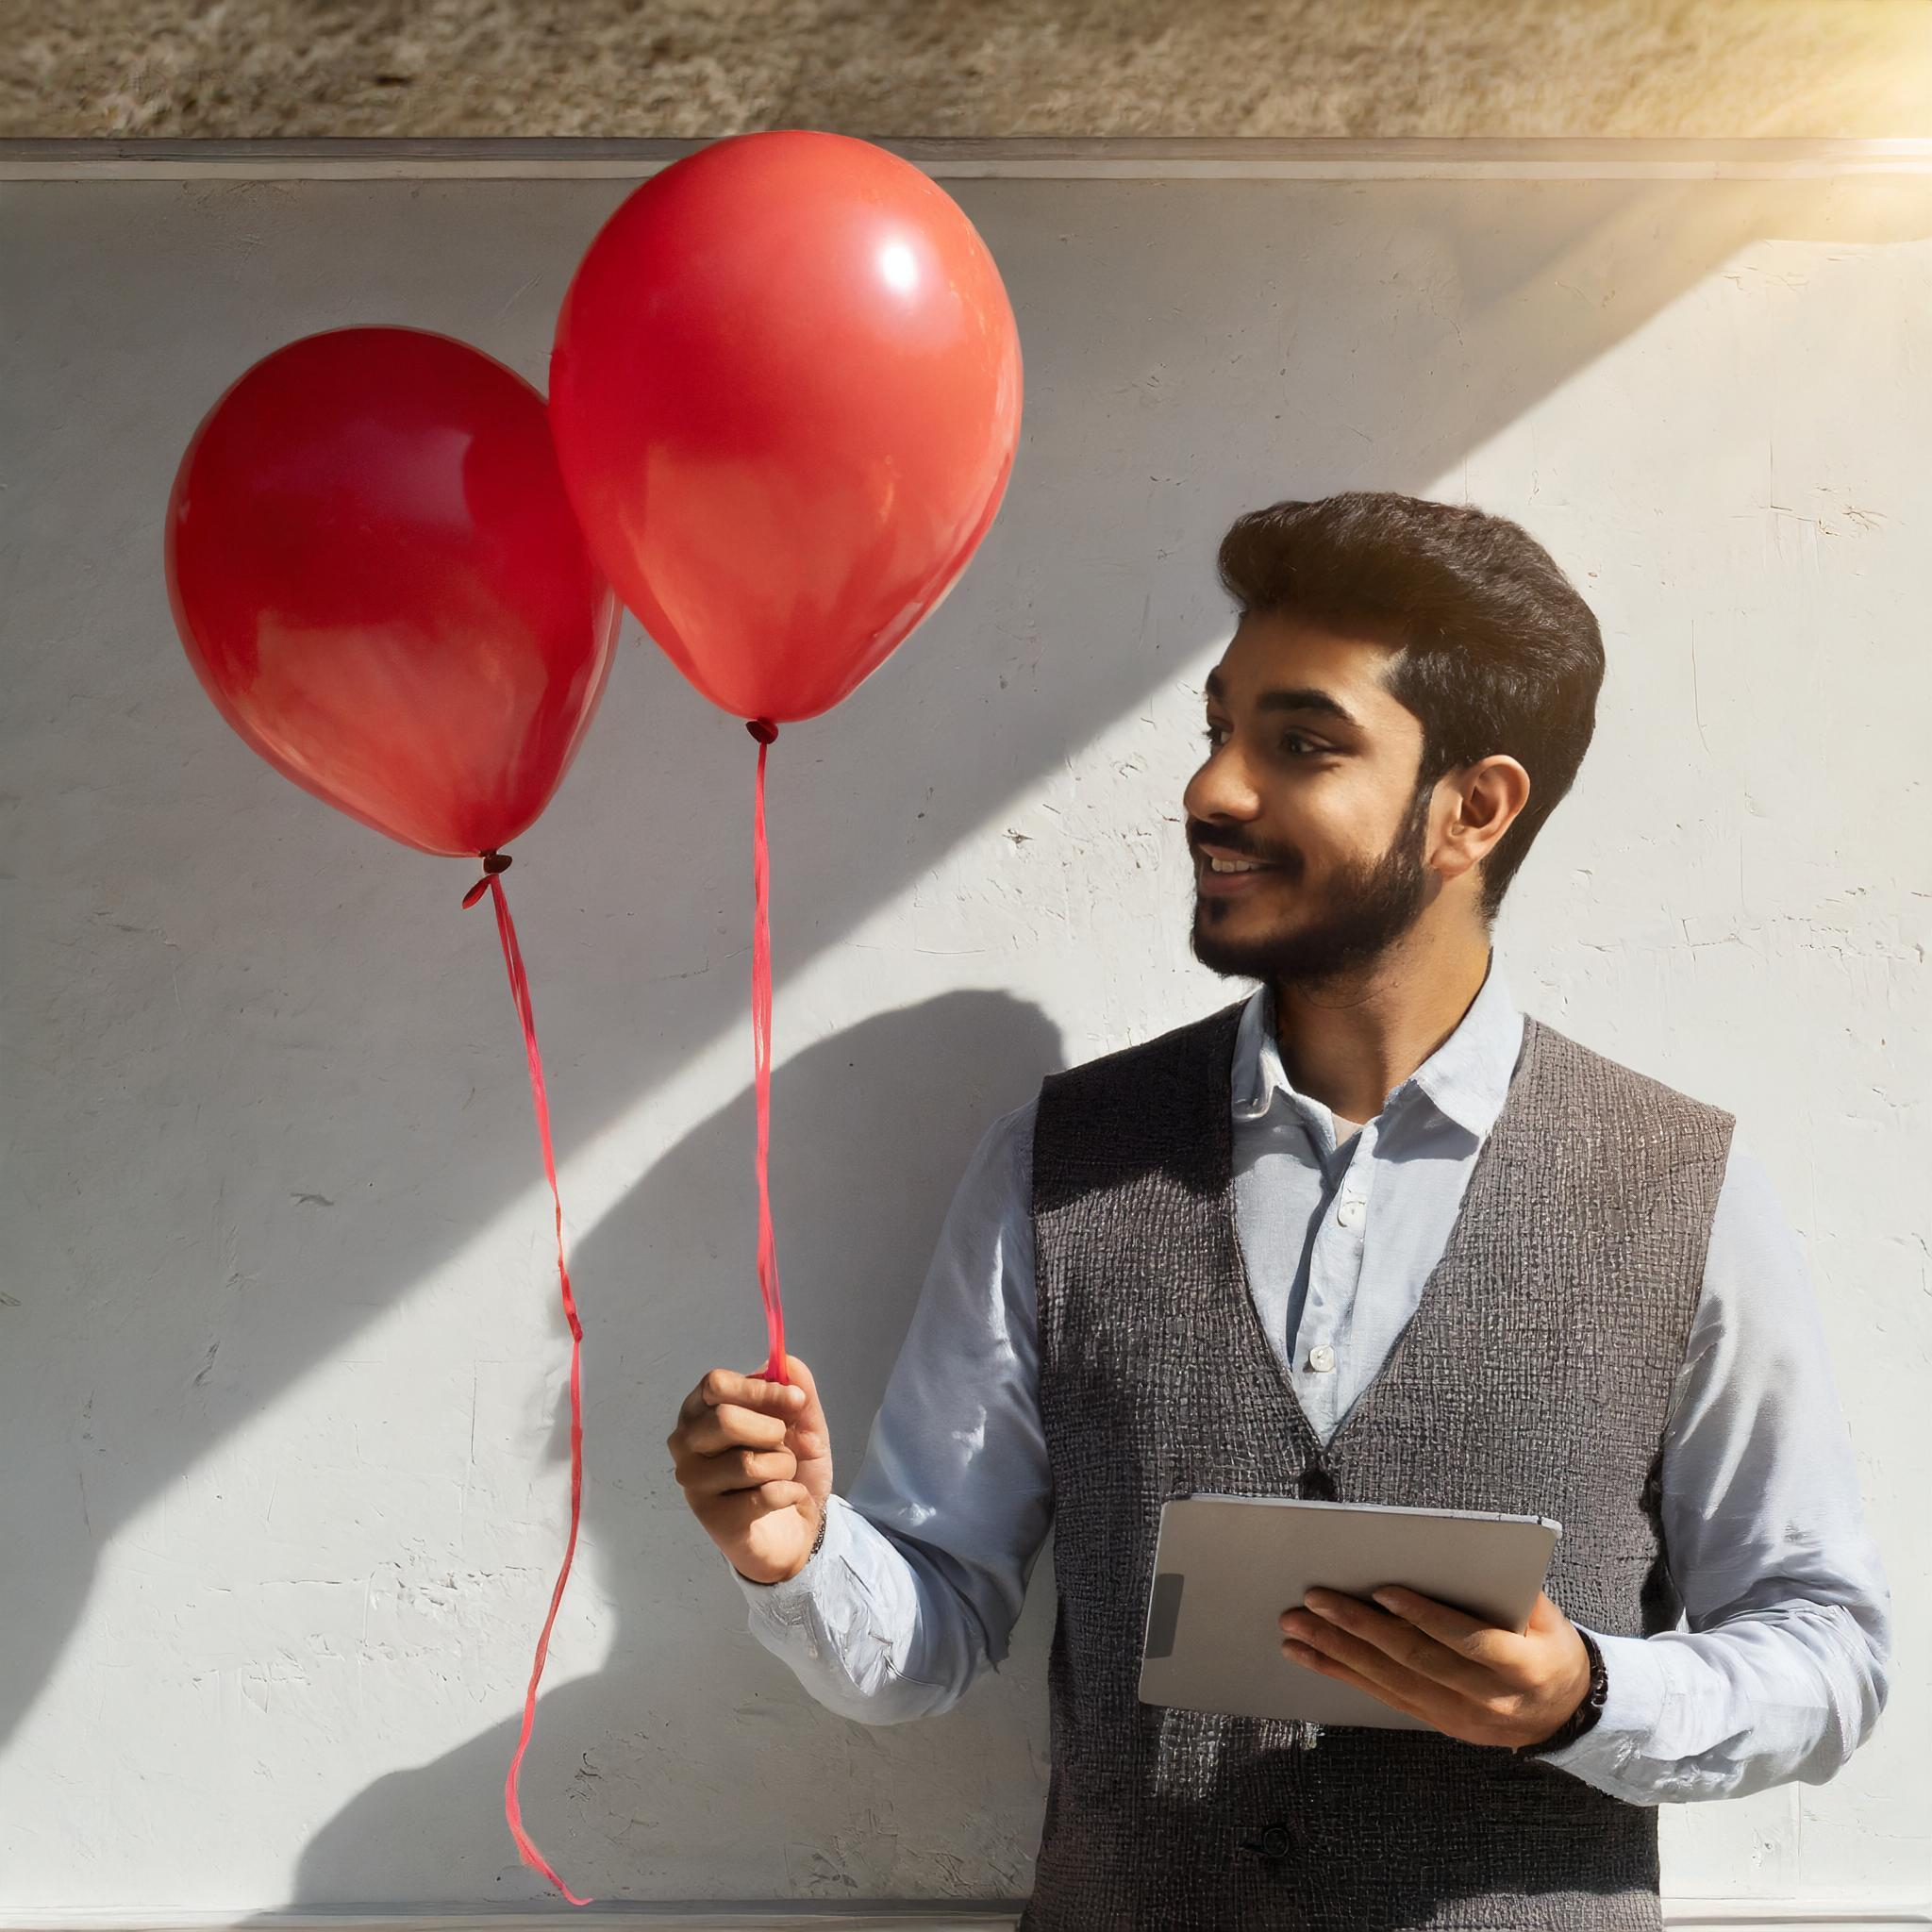red: (529, 124, 1037, 761), (152, 311, 656, 893)
